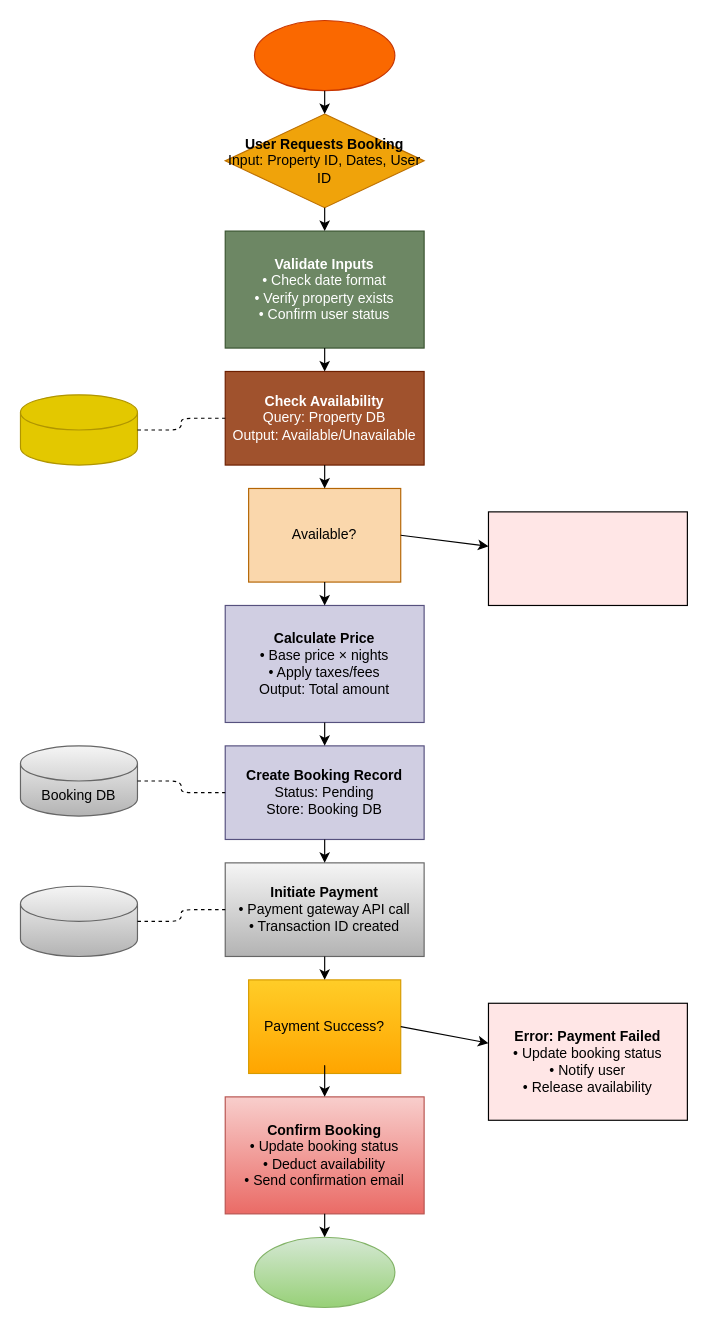
The diagram is 708 pixels wide and 1328 high, and some of its shapes have lost their labels. Each missing label, with the centre of its shape:
Booking Completed: the point at 324,1271
Error: Property Unavailable • Notify user • Suggest alternatives: the point at 587,558
Payment DB: the point at 78,920
Property DB: the point at 78,429
Start Booking Process: the point at 324,55
